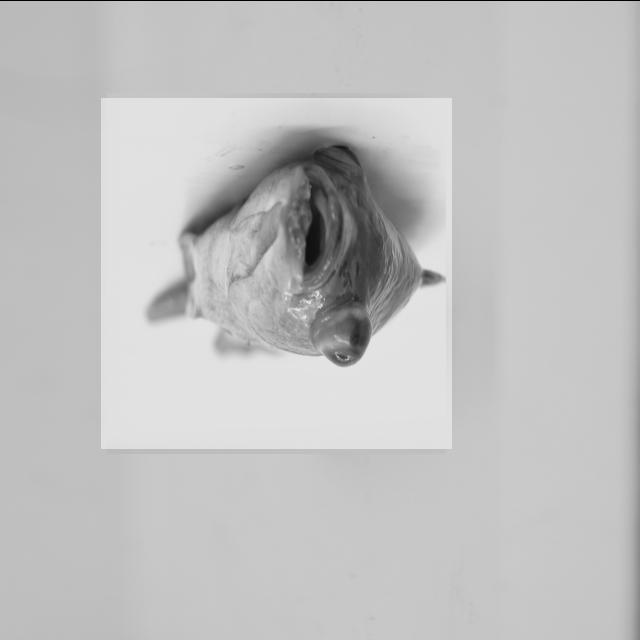Columnaris Disease: (101, 97, 452, 448)
